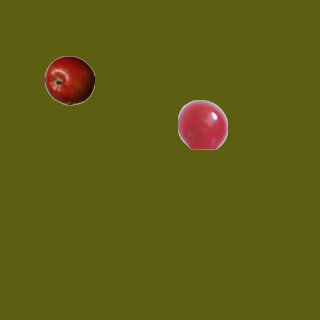Apple Braeburn: (44, 55, 94, 105)
Redcurrant: (177, 99, 227, 149)
